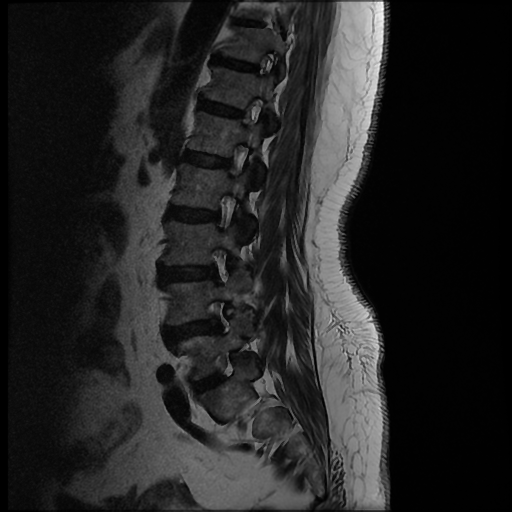LFS0: (198, 237, 241, 291), (203, 186, 245, 238), (214, 135, 256, 187)
LFS1: (201, 344, 243, 389)
LFS2: (196, 291, 240, 344)
